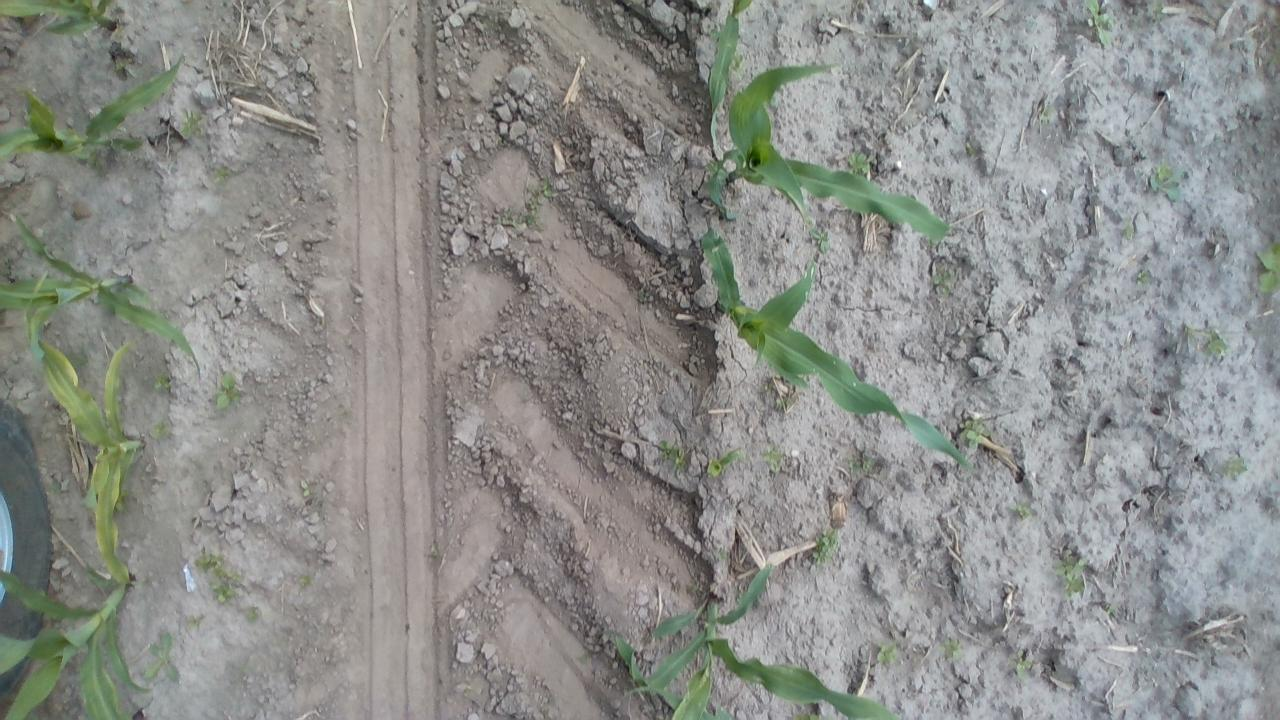Maize: (695, 219, 973, 485), (608, 556, 904, 720), (700, 58, 946, 238), (2, 206, 205, 374), (38, 337, 146, 590), (0, 569, 156, 718), (0, 56, 184, 168), (708, 1, 750, 154), (1, 0, 121, 34)
Weeds: (1078, 0, 1122, 50), (1179, 323, 1231, 362), (146, 638, 182, 684), (1255, 237, 1280, 298), (954, 417, 994, 454), (655, 437, 690, 478), (1149, 164, 1184, 202), (708, 444, 746, 479), (1060, 554, 1090, 596), (931, 258, 960, 298), (215, 368, 242, 408), (810, 528, 840, 562), (492, 206, 539, 227), (844, 451, 880, 477), (1217, 454, 1249, 482), (210, 574, 239, 602), (192, 546, 220, 574), (938, 636, 962, 664), (760, 447, 784, 472), (874, 641, 900, 664), (528, 180, 550, 207), (808, 228, 832, 250), (848, 149, 869, 173), (111, 64, 136, 82), (151, 420, 172, 441), (242, 606, 264, 624), (184, 110, 202, 132), (1014, 654, 1032, 673), (1120, 219, 1135, 239), (1016, 503, 1032, 520), (1136, 268, 1150, 284), (214, 165, 228, 180), (1042, 106, 1056, 120), (183, 616, 203, 624), (298, 575, 312, 586), (426, 550, 436, 560)
